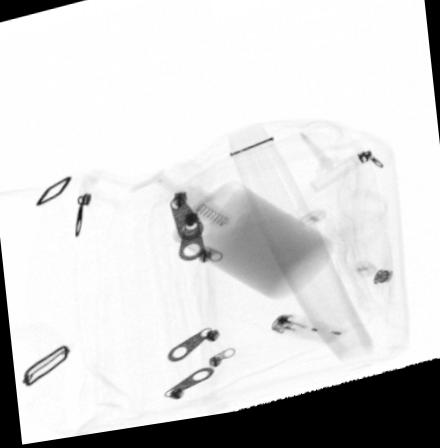Lighter: (270, 322, 349, 355)
